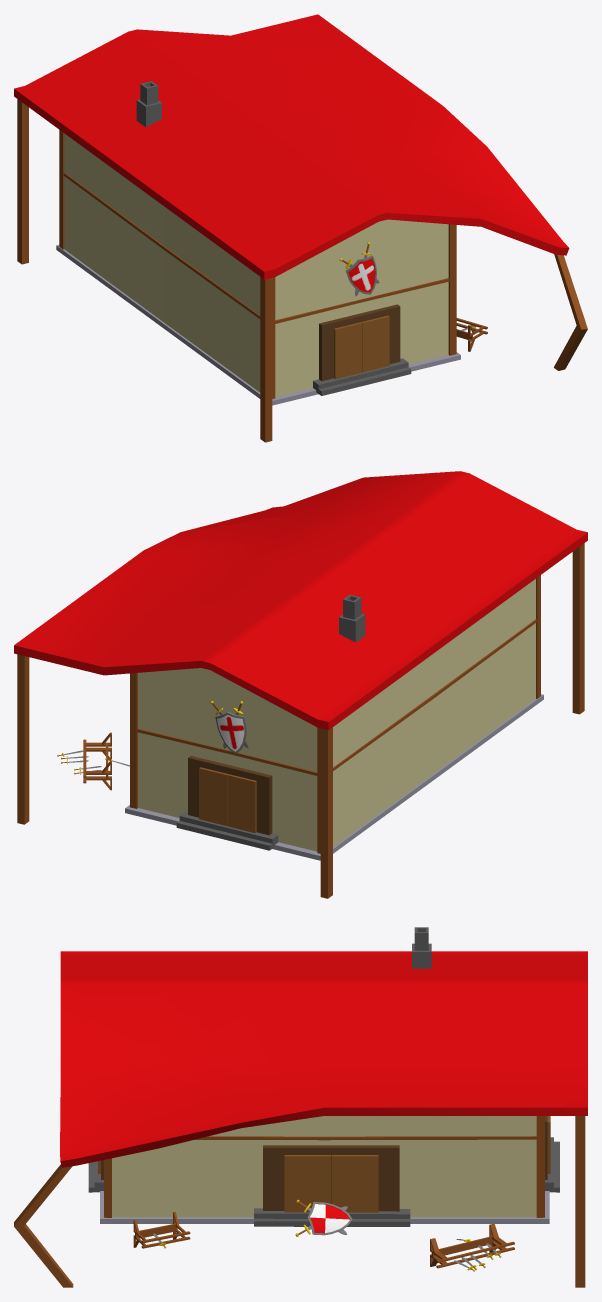
File: barracks (2).fbx
3 renders of one model, top to bottom at view 1: azimuth 30°, elevation 25°; view 2: azimuth 150°, elevation 25°; view 3: azimuth 270°, elevation 25°, orthographic. The views are drawn at different scales.
Visible parts, largest first — view 1: roof.001, walls.002, door sides, ground.001, emblem.001, schoorsteen.001; view 2: roof.001, walls.002, door sides, ground.001, weapon stand.005, emblem.002, schoorsteen.001; view 3: roof.001, walls.002, door front, ground.001, weapon stand.005, door sides, emblem, weapon stand, schoorsteen.001.
Part boxes in pixels (x1=…): roof.001: x1=14, y1=14, x2=587, y2=442; walls.002: x1=59, y1=130, x2=456, y2=398; door sides: x1=313, y1=304, x2=411, y2=395; ground.001: x1=56, y1=244, x2=460, y2=405; emblem.001: x1=339, y1=242, x2=379, y2=296; schoorsteen.001: x1=136, y1=81, x2=161, y2=127; roof.001: x1=14, y1=471, x2=587, y2=898; walls.002: x1=130, y1=575, x2=540, y2=853; door sides: x1=176, y1=756, x2=278, y2=850; ground.001: x1=125, y1=694, x2=543, y2=860; weapon stand.005: x1=57, y1=732, x2=129, y2=790; emblem.002: x1=210, y1=701, x2=248, y2=753; schoorsteen.001: x1=339, y1=594, x2=365, y2=642; roof.001: x1=14, y1=951, x2=587, y2=1287; walls.002: x1=104, y1=1116, x2=544, y2=1217; door front: x1=254, y1=1145, x2=410, y2=1226; ground.001: x1=100, y1=1191, x2=549, y2=1223; weapon stand.005: x1=430, y1=1223, x2=514, y2=1271; door sides: x1=88, y1=1116, x2=559, y2=1192; emblem: x1=295, y1=1199, x2=352, y2=1236; weapon stand: x1=133, y1=1212, x2=190, y2=1248; schoorsteen.001: x1=412, y1=927, x2=431, y2=968.
Size of the model in its own units: 16.04 by 10.66 by 23.95.
Materials: 13 (2 with a texture image).
